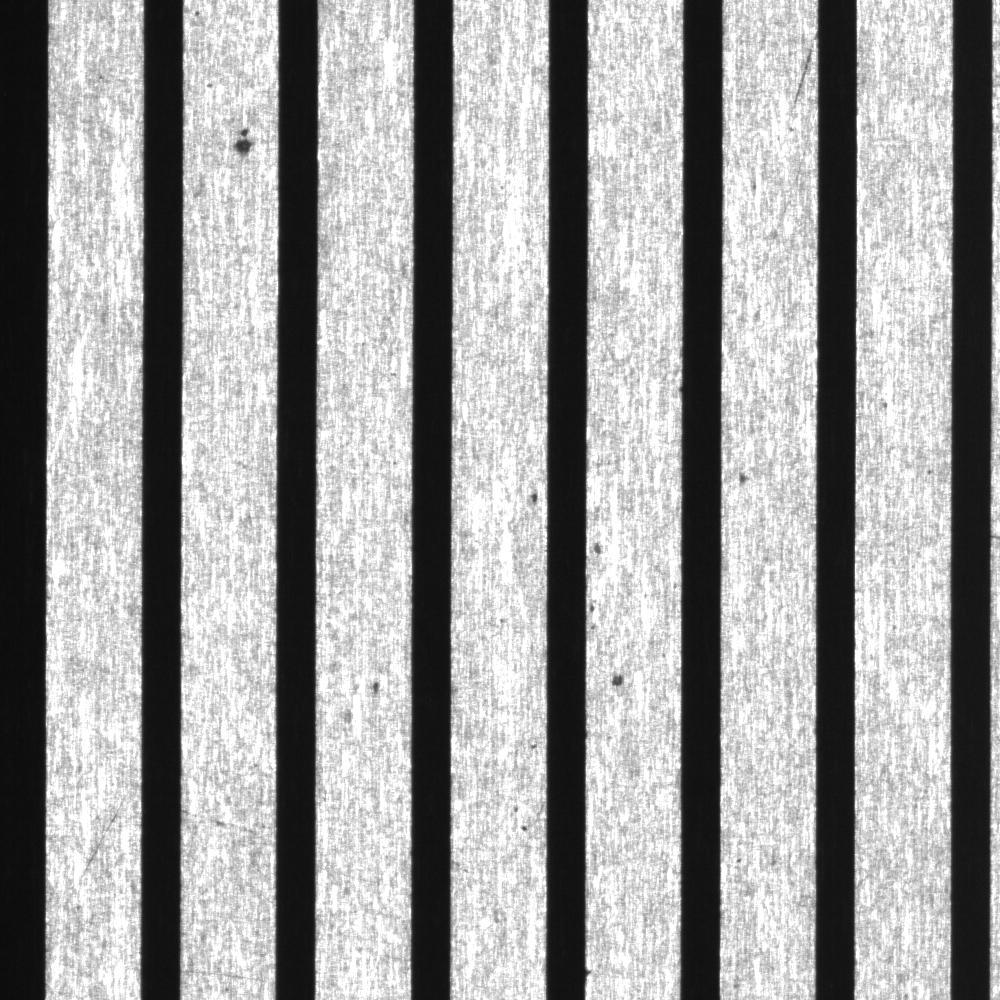Etching: (219, 114, 267, 166), (587, 537, 611, 639), (500, 797, 536, 841), (605, 659, 640, 704), (361, 672, 394, 709), (520, 481, 545, 517), (732, 463, 754, 495), (521, 732, 543, 758), (873, 392, 895, 415), (920, 459, 939, 482)
Pinhole: (186, 6, 213, 29)
Scar: (67, 760, 141, 908), (183, 797, 278, 843), (780, 30, 825, 118), (181, 963, 273, 985)
